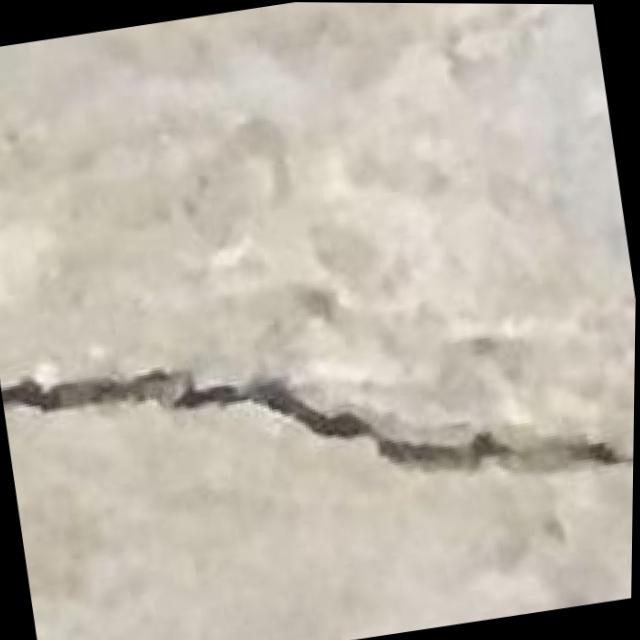Crack: (0, 251, 637, 567)
